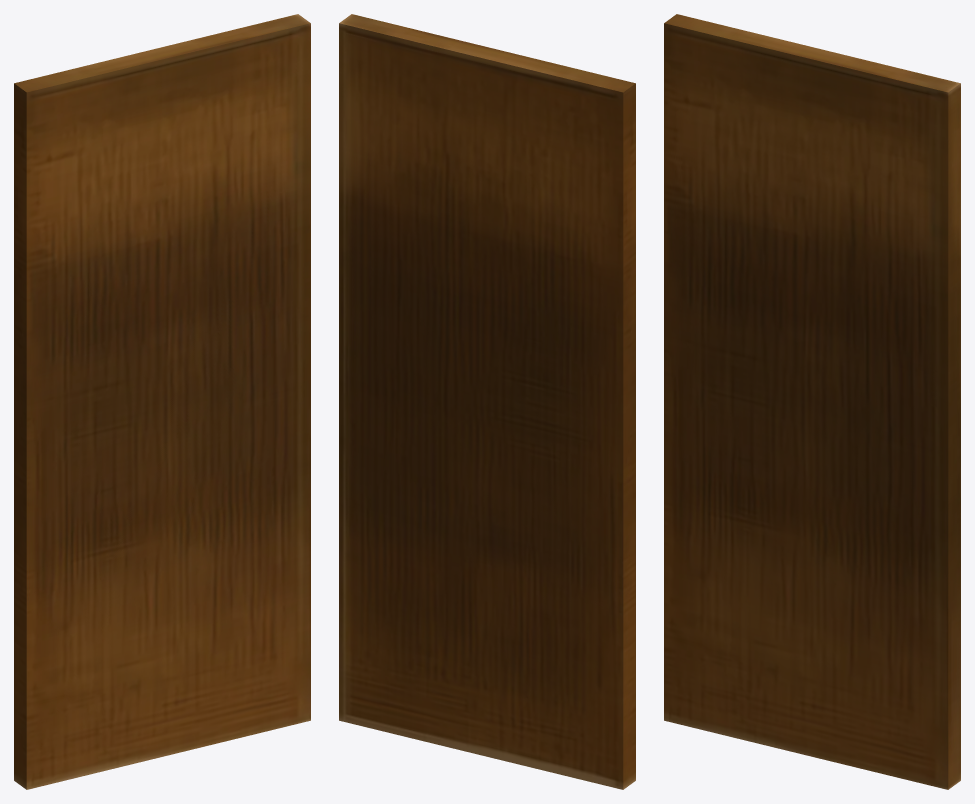
File: link_8__back_panel-96.glb
3 views of the same model, side by side, from view 1: azimuth 30°, elevation 25°; view 2: azimuth 150°, elevation 25°; view 3: azimuth 330°, elevation 25° (orthographic).
Visible parts, largest first — view 1: geometry_0; view 2: geometry_0; view 3: geometry_0.
Part boxes in pixels (left/top/right/bottom): geometry_0: left=14, top=14, right=310, bottom=789; geometry_0: left=339, top=14, right=635, bottom=789; geometry_0: left=664, top=14, right=960, bottom=789.
Size of the model in its own units: 0.2731 by 0.6406 by 0.021.
1 material, 1 textured.
